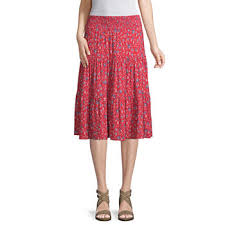C_skirt: (61, 12, 159, 144)
